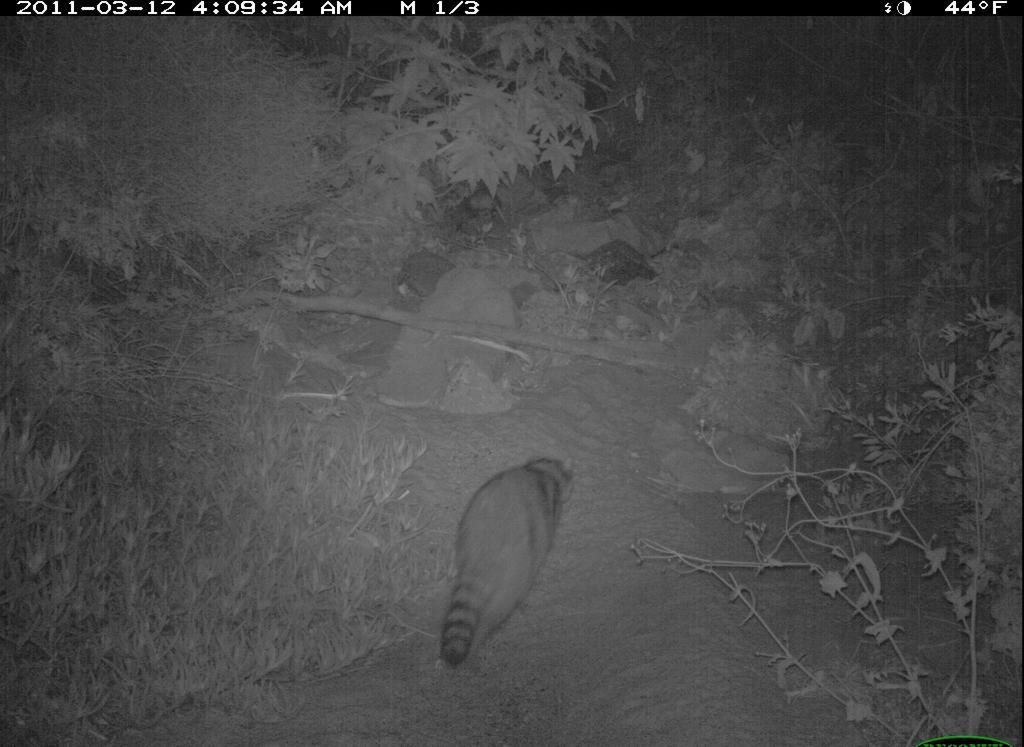raccoon: (432, 450, 582, 674)
